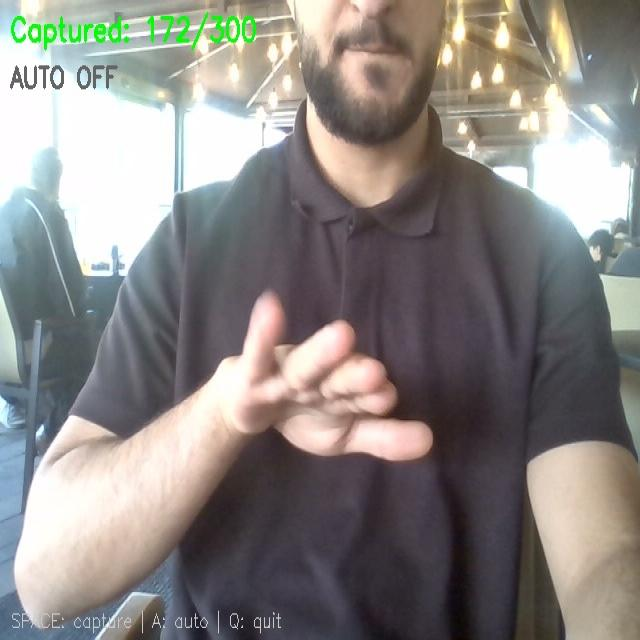Hand: (211, 292, 432, 459)
